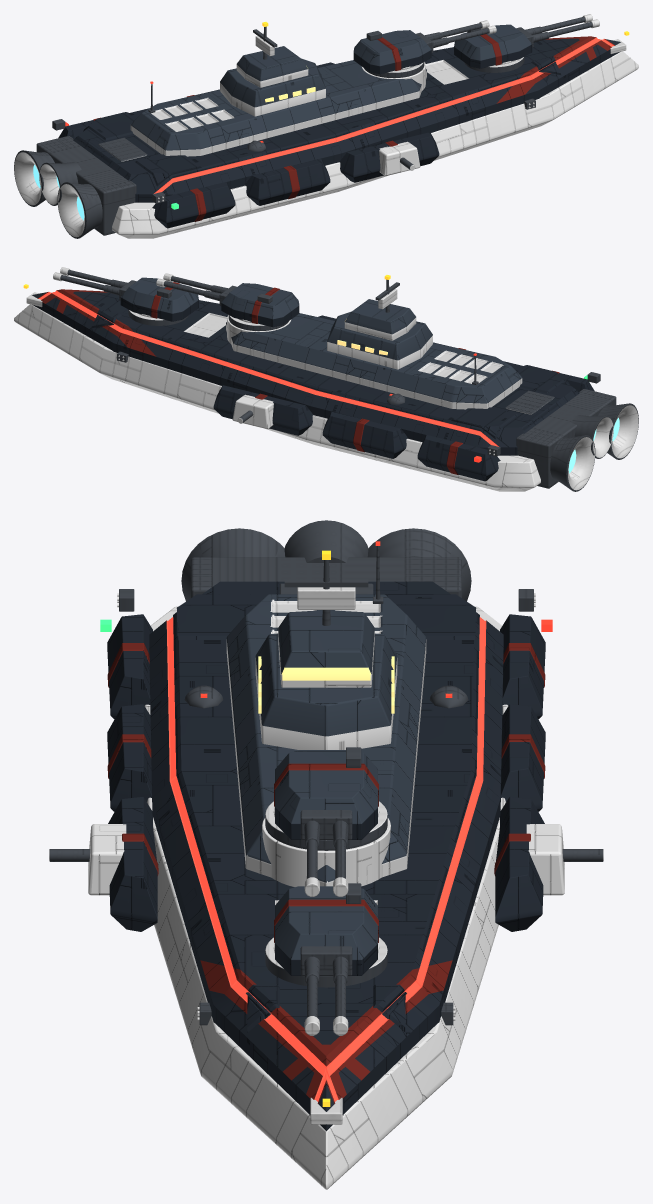
Rendered from bastion_production_v1.glb.
The picture shows the model from 3 angles, top to bottom: view 1: azimuth 30°, elevation 25°; view 2: azimuth 150°, elevation 25°; view 3: azimuth 270°, elevation 25°; orthographic projection. The views are drawn at different scales.
Parts seen in each view (by area): view 1: LOD0_Hull, LOD0_Hull_upper, LOD0_Armor, LOD0_Mechanical, LOD0_MechanicalDark, LOD0_Lights_Cyan_warning, LOD0_Livery; view 2: LOD0_Hull, LOD0_Hull_upper, LOD0_Armor, LOD0_Mechanical, LOD0_MechanicalDark, LOD0_Lights_Cyan_warning, LOD0_HOOK_ARMOR_PORT_Hull, LOD0_Livery, LOD0_HOOK_SECONDARY_CASEMATE_Armor; view 3: LOD0_Hull, LOD0_Hull_upper, LOD0_Armor, LOD0_Mechanical, LOD0_Livery, LOD0_Lights_Cyan_warning, LOD0_MechanicalDark, LOD0_HOOK_ARMOR_PORT_Hull, LOD0_HOOK_SECONDARY_CASEMATE_Armor, LOD0_Lights_Warm, LOD0_HOOK_SENSOR_MAST_MechanicalDark, LOD0_HOOK_SENSOR_MAST_Mechanical.
Part boxes in pixels (bbox=[...]): LOD0_Hull: bbox=[58, 38, 620, 228]; LOD0_Hull_upper: bbox=[131, 24, 531, 150]; LOD0_Armor: bbox=[112, 51, 638, 238]; LOD0_Mechanical: bbox=[14, 16, 592, 238]; LOD0_MechanicalDark: bbox=[14, 14, 626, 237]; LOD0_Lights_Cyan_warning: bbox=[154, 37, 614, 193]; LOD0_Livery: bbox=[93, 34, 614, 221]; LOD0_Hull: bbox=[32, 291, 594, 481]; LOD0_Hull_upper: bbox=[121, 277, 522, 403]; LOD0_Armor: bbox=[14, 304, 540, 491]; LOD0_Mechanical: bbox=[60, 269, 638, 491]; LOD0_MechanicalDark: bbox=[26, 267, 638, 490]; LOD0_Lights_Cyan_warning: bbox=[38, 290, 498, 446]; LOD0_HOOK_ARMOR_PORT_Hull: bbox=[322, 411, 407, 458]; LOD0_Livery: bbox=[38, 282, 559, 474]; LOD0_HOOK_SECONDARY_CASEMATE_Armor: bbox=[232, 394, 273, 428]; LOD0_Hull: bbox=[107, 581, 545, 1131]; LOD0_Hull_upper: bbox=[226, 594, 426, 959]; LOD0_Armor: bbox=[88, 606, 508, 1189]; LOD0_Mechanical: bbox=[49, 520, 533, 1025]; LOD0_Livery: bbox=[107, 643, 545, 1103]; LOD0_Lights_Cyan_warning: bbox=[166, 617, 486, 1101]; LOD0_MechanicalDark: bbox=[49, 593, 535, 1124]; LOD0_HOOK_ARMOR_PORT_Hull: bbox=[501, 704, 545, 811]; LOD0_HOOK_SECONDARY_CASEMATE_Armor: bbox=[526, 824, 564, 895]; LOD0_Lights_Warm: bbox=[258, 656, 394, 713]; LOD0_HOOK_SENSOR_MAST_MechanicalDark: bbox=[297, 587, 355, 609]; LOD0_HOOK_SENSOR_MAST_Mechanical: bbox=[284, 560, 368, 625].
Size of what is drawn, in the model's own units: 21.1 by 5.08 by 8.6.
12 materials, 6 textured.
